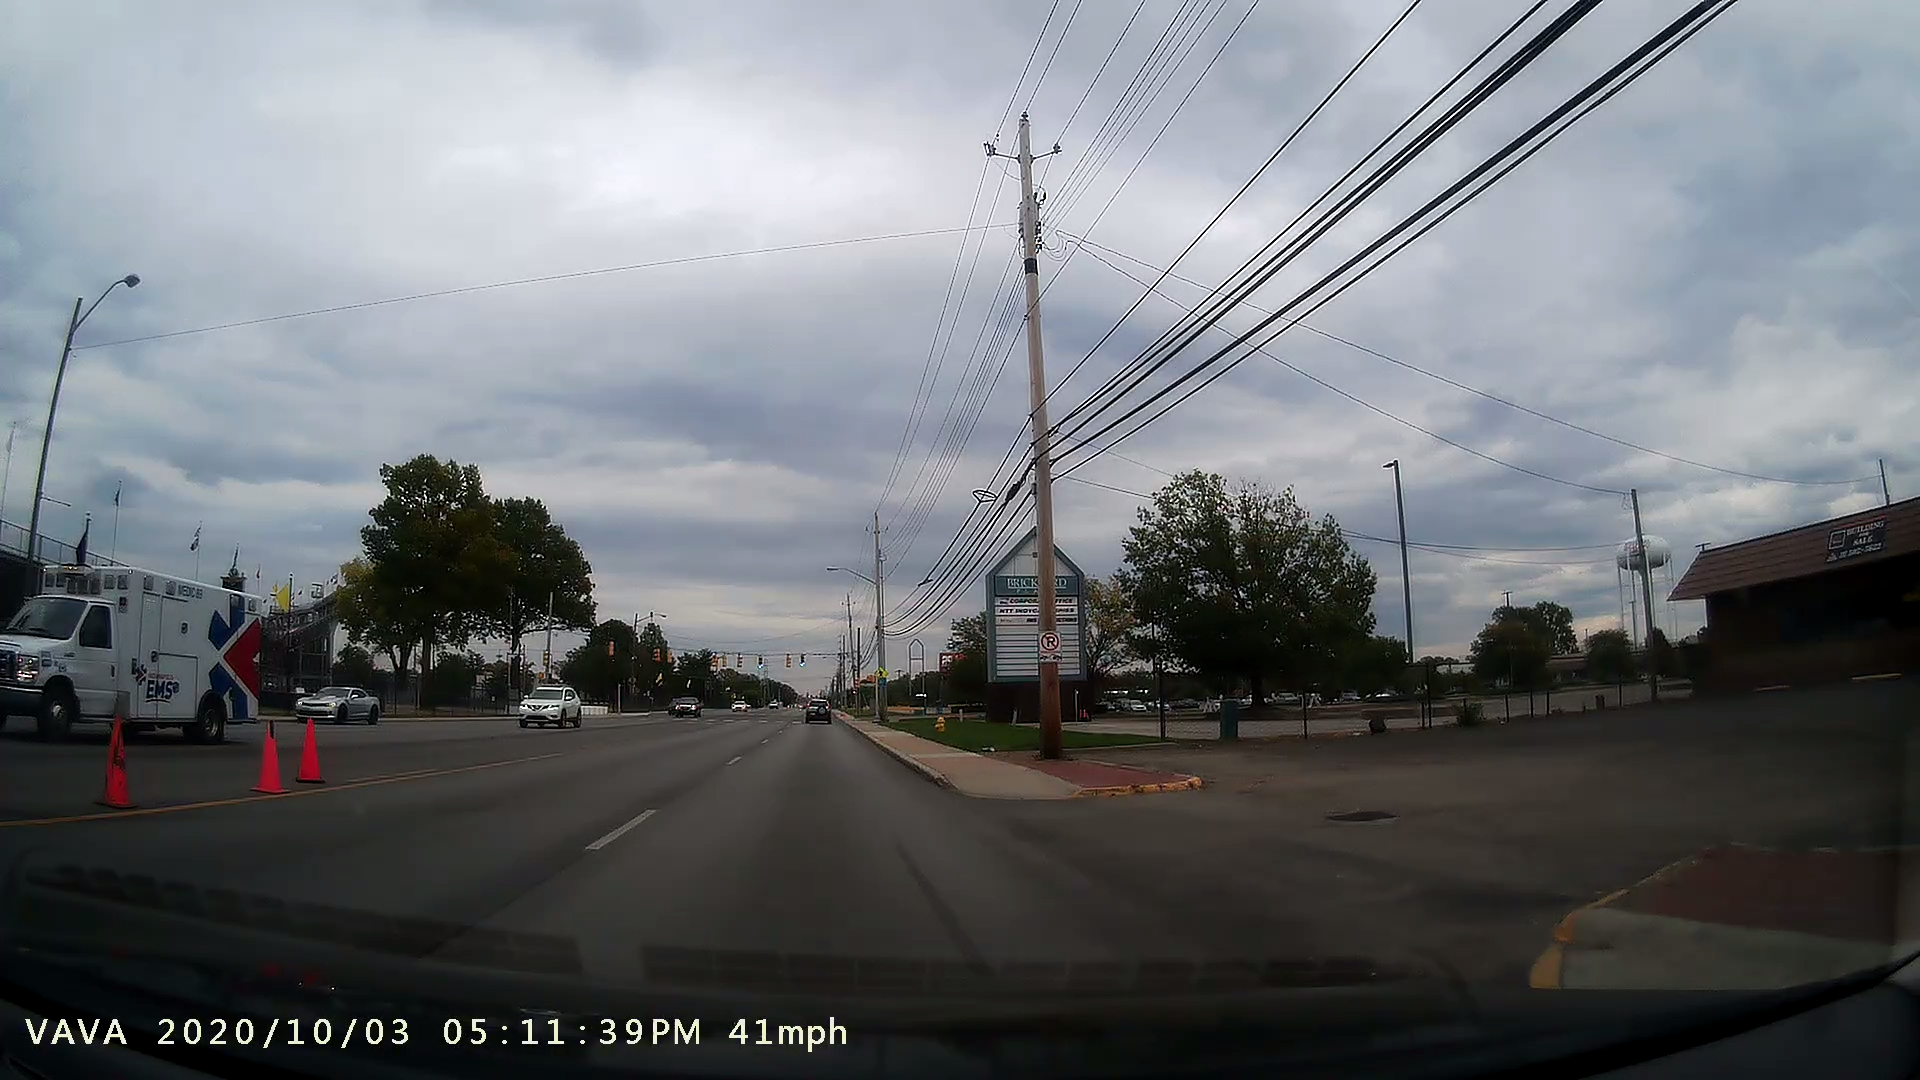const_cone: (84, 700, 148, 818), (243, 700, 293, 808), (295, 704, 334, 794)
